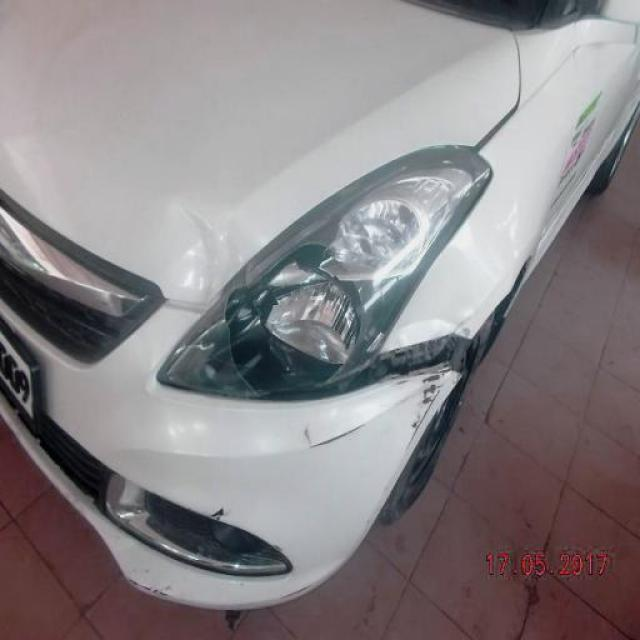Car-Damage: (219, 231, 381, 393), (167, 338, 471, 408), (387, 238, 509, 352), (173, 200, 239, 305), (402, 374, 448, 463), (303, 420, 379, 452), (125, 570, 175, 601), (207, 499, 231, 524)
